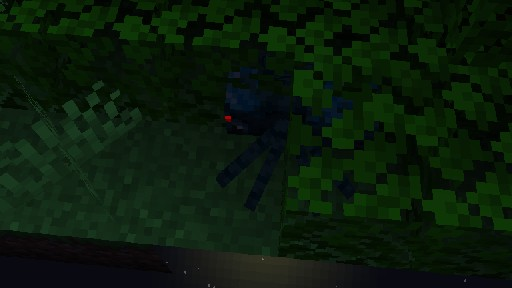cave_spider: (215, 51, 379, 217)
